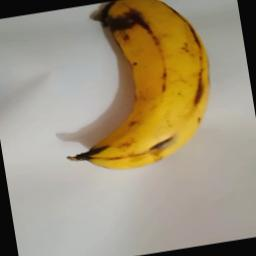Banana Unripe: (45, 0, 224, 178)
